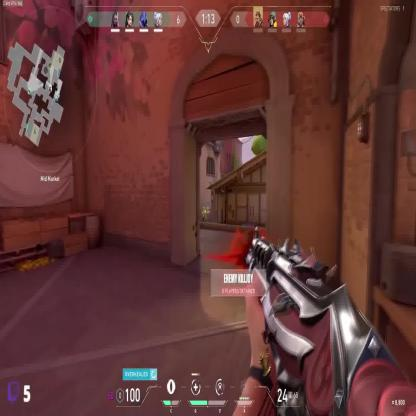enemy: (201, 206, 208, 225)
enemy_head: (202, 206, 206, 210)
